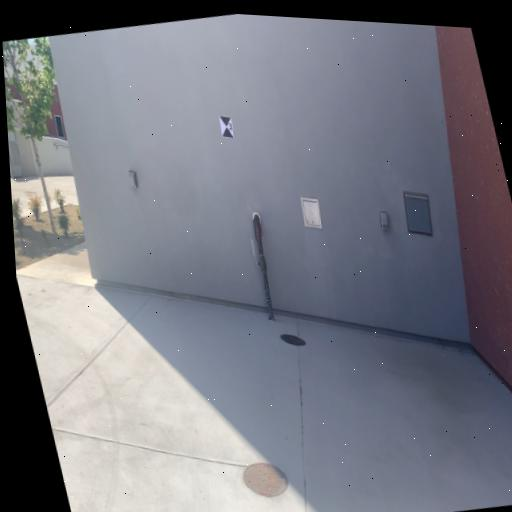target3: (218, 115, 234, 138)
